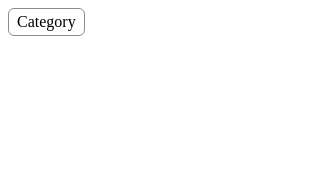
FilterBox (spec filter §3, §5) › shows how many values are selected on the button, whose name is its visible text
Click the button "Category" at (46, 22), box [8,8,85,36]
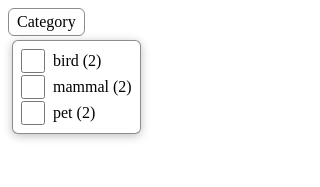
Click the checkbox labelled "bird (2)" at (33, 61), box [21,49,45,73]
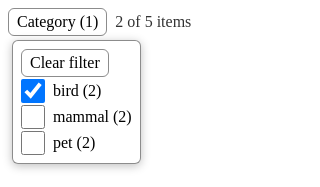
Click the checkbox labelled "pet (2)" at (33, 143), box [21,131,45,155]
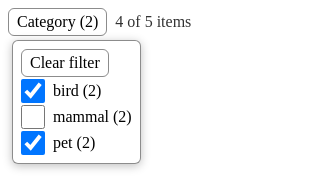
Expected: the element named "Category" is shown, [12,40,141,164]
Expected: the button "Category (2)" is shown, [8,8,107,36]
